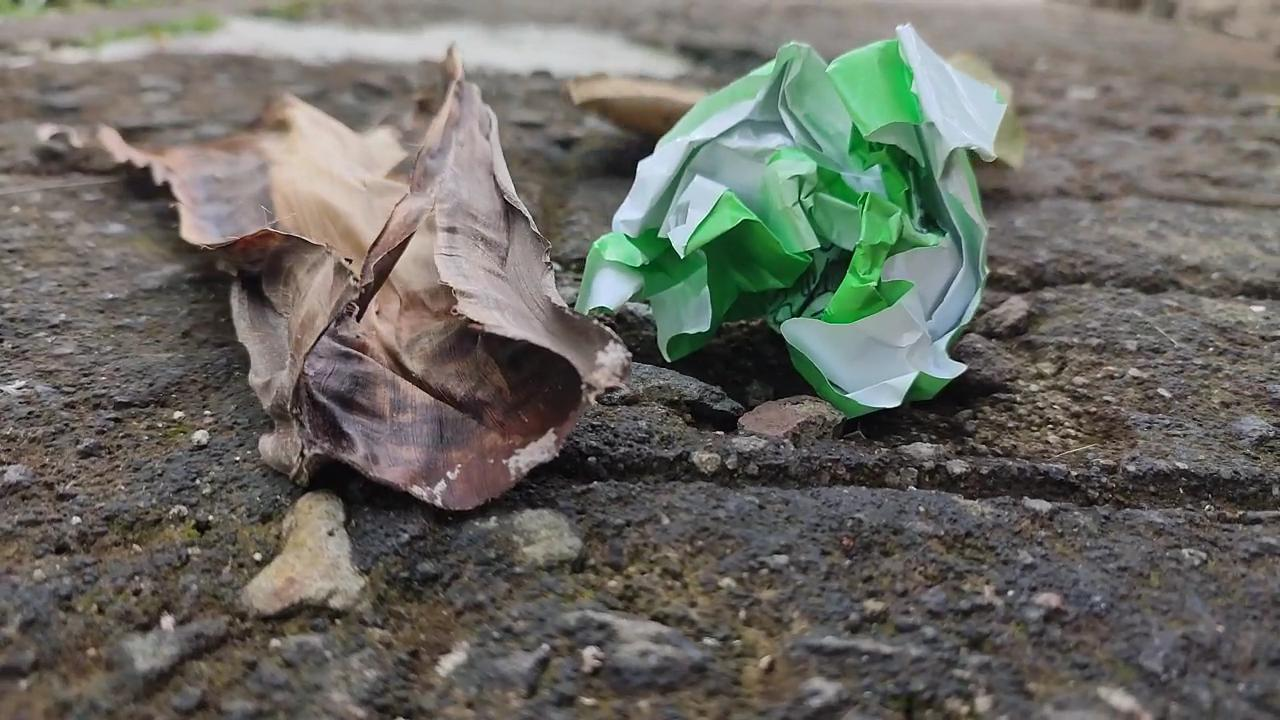Paper: (551, 10, 1022, 430)
